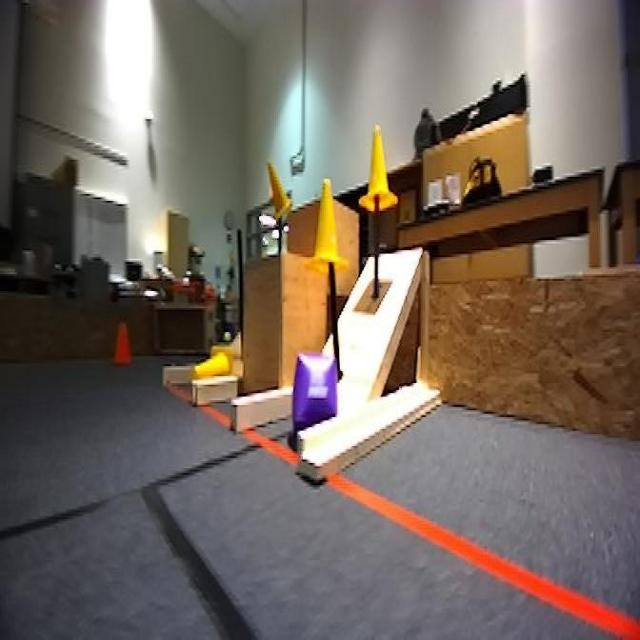frc_cone: (308, 175, 350, 279), (356, 122, 397, 218), (192, 340, 238, 383), (264, 160, 292, 226)
frc_cube: (287, 354, 338, 444)
